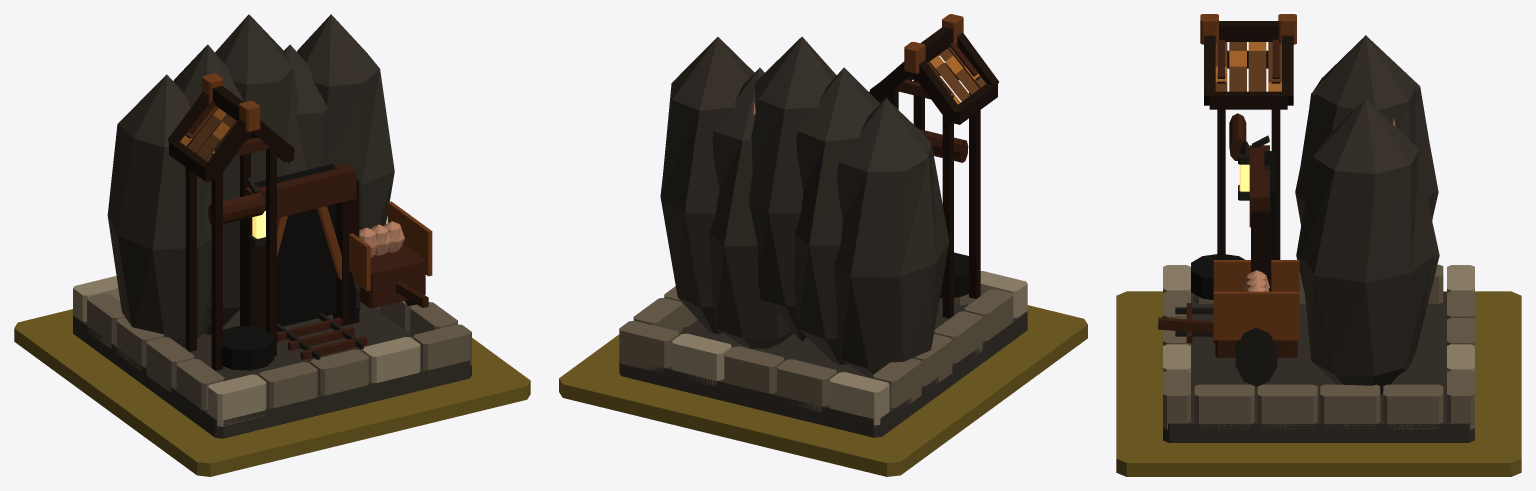
File: deephole_t6.glb
3 views of the same model, side by side, from view 1: azimuth 30°, elevation 25°; view 2: azimuth 150°, elevation 25°; view 3: azimuth 270°, elevation 25° (orthographic). The views are drawn at different scales.
Parts seen in each view (by area): view 1: MMR | deephole | T06 Architecture.001, MMR | deephole | Tier 06 Ground.001; view 2: MMR | deephole | T06 Architecture.001, MMR | deephole | Tier 06 Ground.001; view 3: MMR | deephole | T06 Architecture.001, MMR | deephole | Tier 06 Ground.001.
Boxes of the visible parts, x1,y1,x2,y2 form: MMR | deephole | T06 Architecture.001: (73, 14, 471, 438); MMR | deephole | Tier 06 Ground.001: (14, 309, 530, 476); MMR | deephole | T06 Architecture.001: (619, 14, 1027, 437); MMR | deephole | Tier 06 Ground.001: (559, 305, 1087, 476); MMR | deephole | T06 Architecture.001: (1158, 14, 1474, 442); MMR | deephole | Tier 06 Ground.001: (1116, 291, 1521, 476).
Size of the model in its own units: 1.3 by 1.26 by 1.3.
2 materials, 1 textured.
